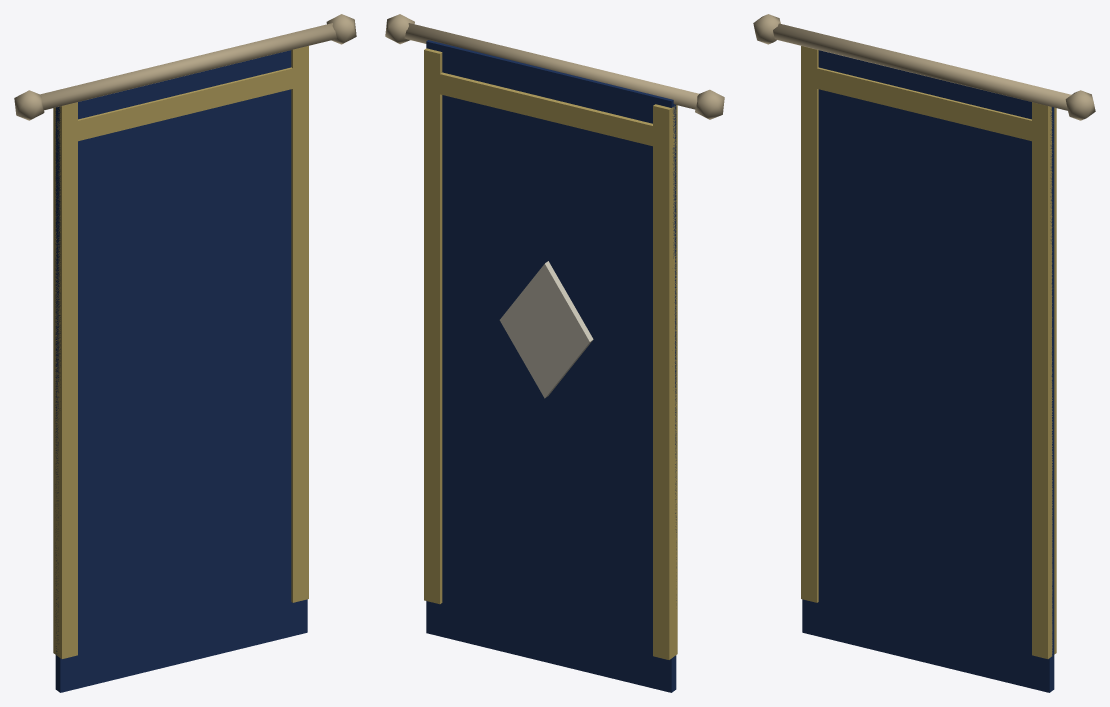
File: nutcracker_banner_v0.glb
3 renders of one model, left to right at view 1: azimuth 30°, elevation 25°; view 2: azimuth 150°, elevation 25°; view 3: azimuth 330°, elevation 25°, orthographic.
Parts seen in each view (by area): view 1: nutcracker_banner_v0; view 2: nutcracker_banner_v0; view 3: nutcracker_banner_v0.
Part boxes in pixels (box(x1,y1,x2,y2)): nutcracker_banner_v0: box(14, 14, 356, 692); nutcracker_banner_v0: box(385, 14, 724, 692); nutcracker_banner_v0: box(753, 14, 1095, 692).
Bounding box in the file's own units: 1.04 × 1.8 × 0.0933.
